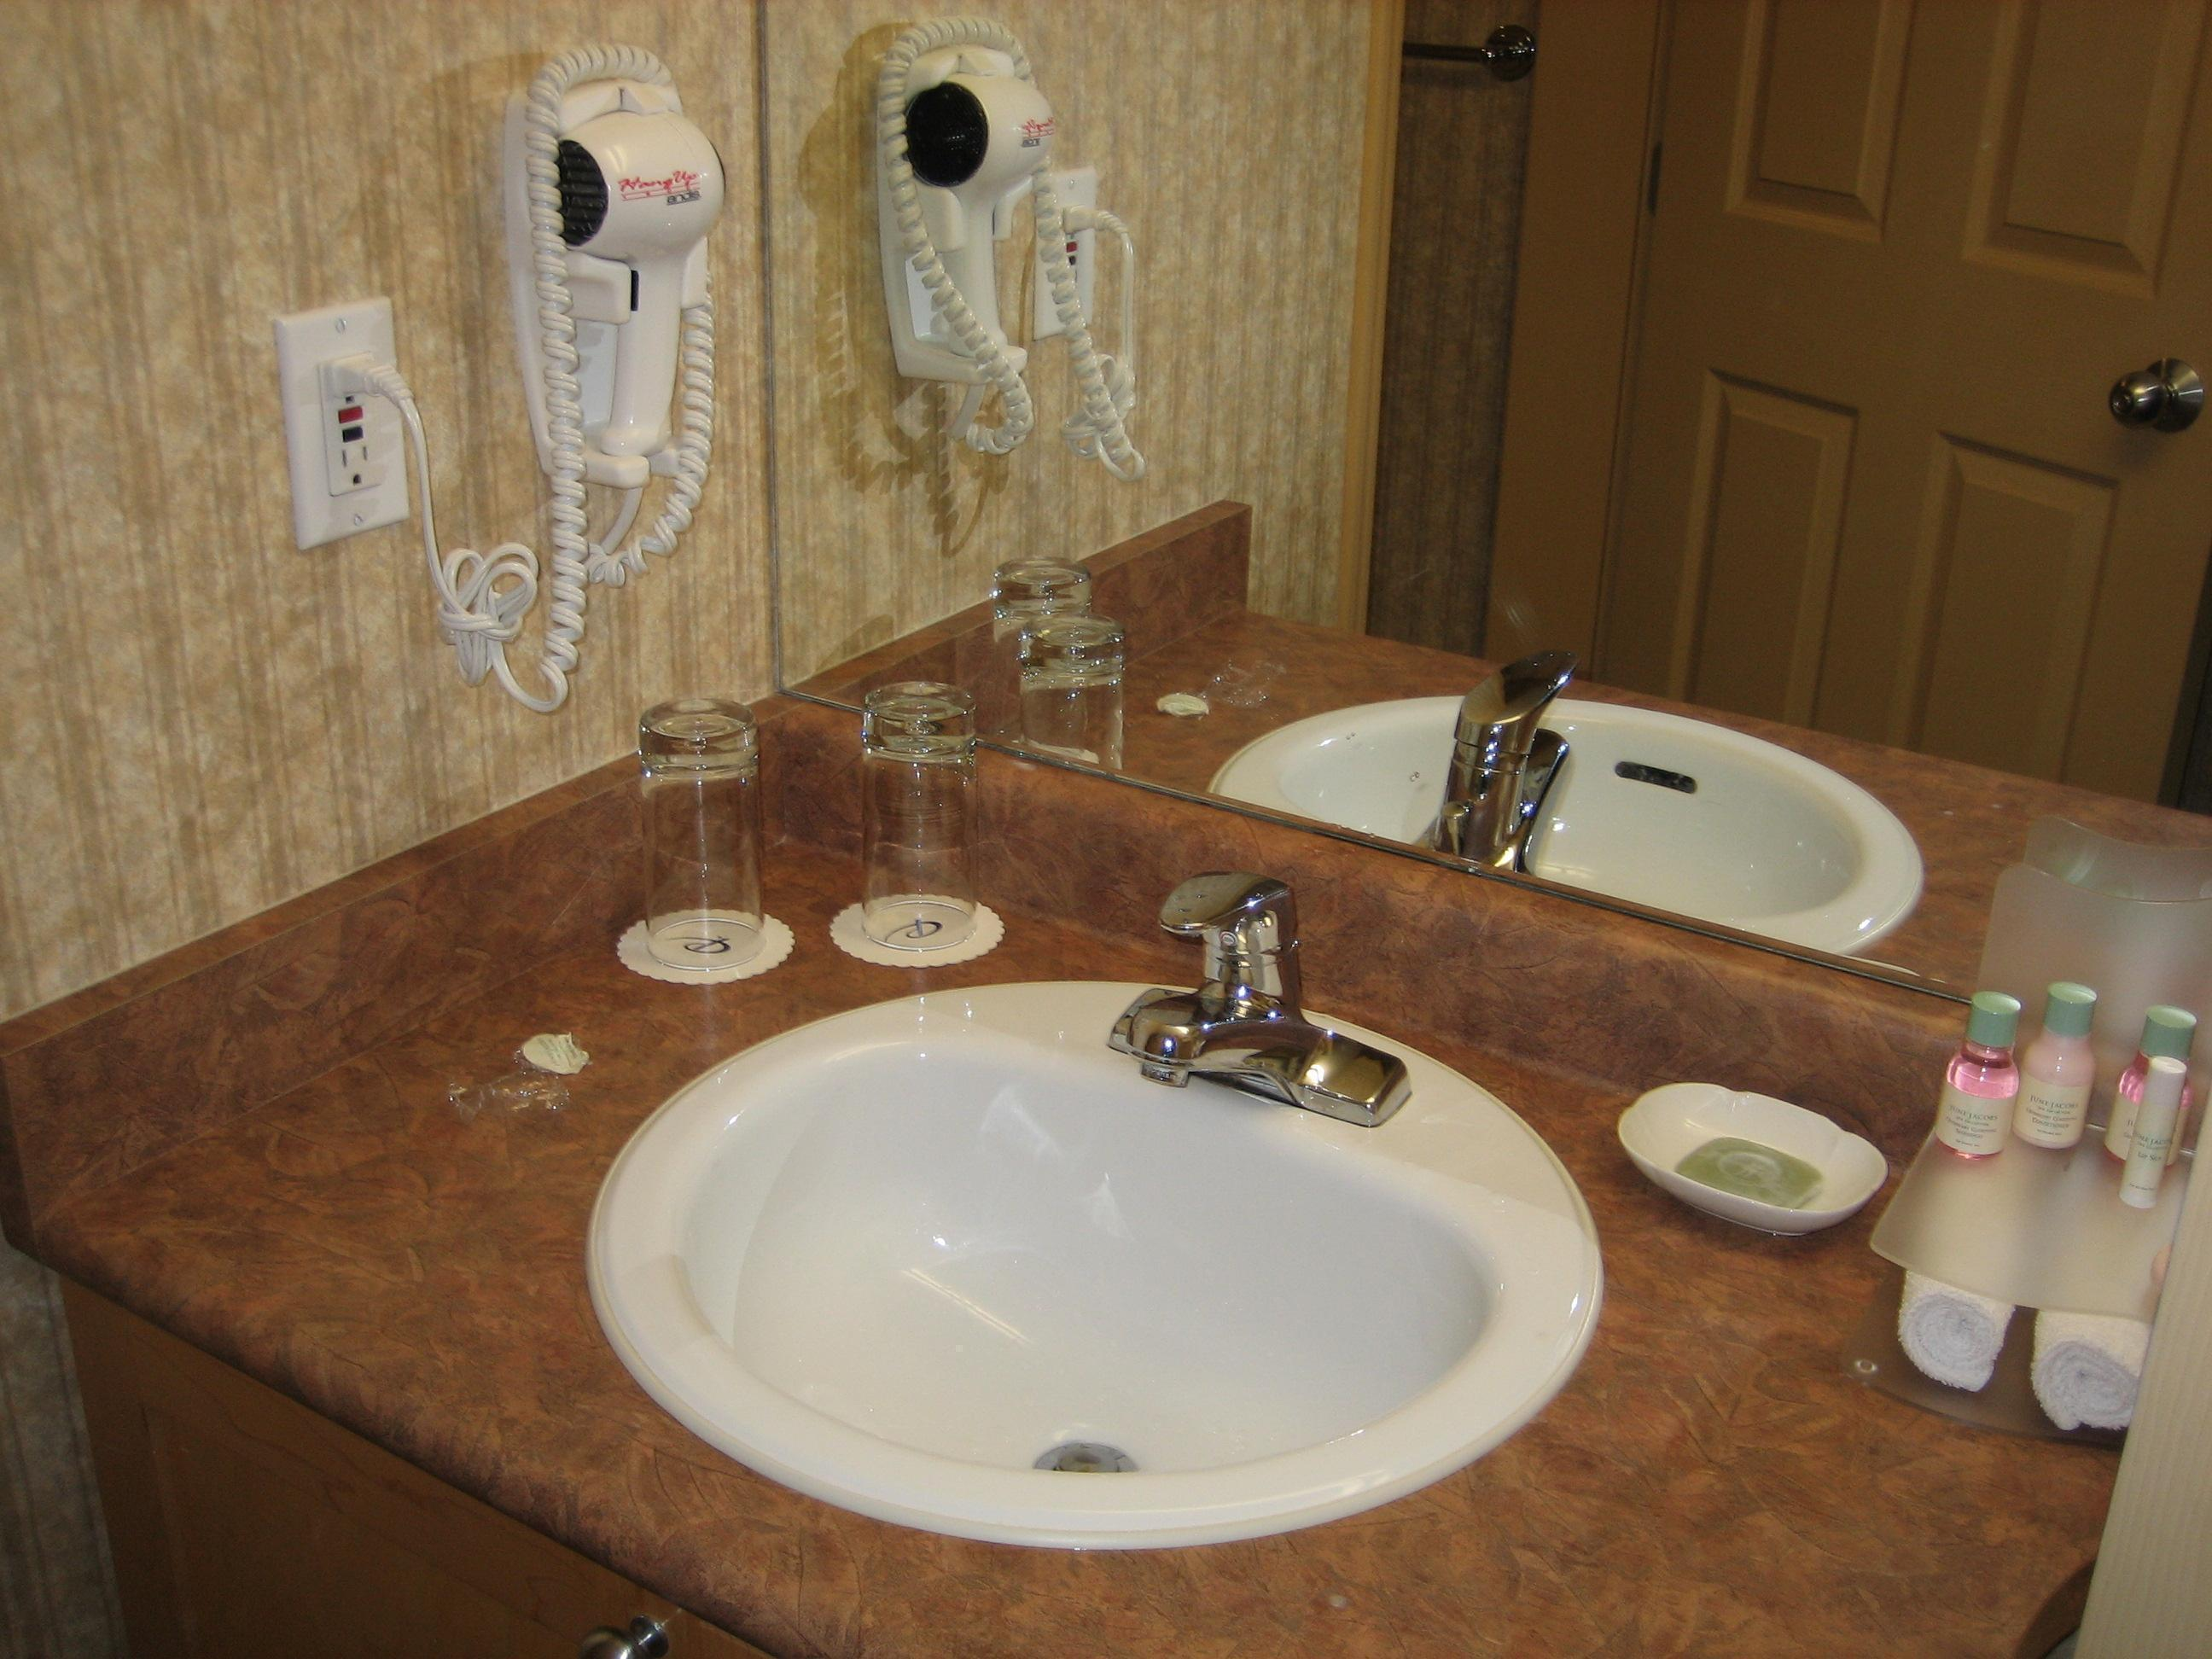Lavamanos: (510, 873, 1618, 1500)
